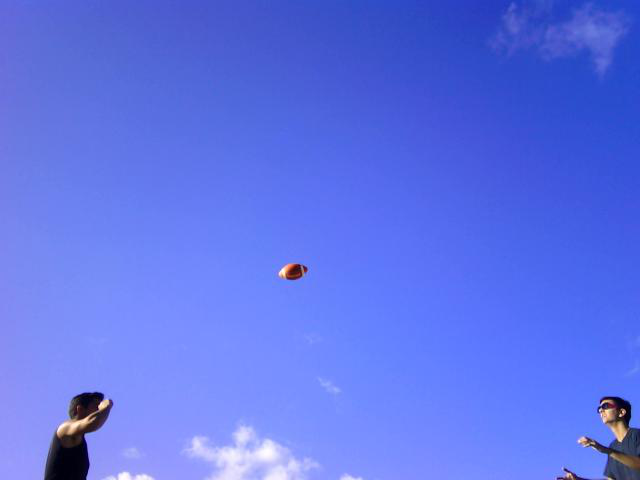football: (280, 260, 309, 283)
